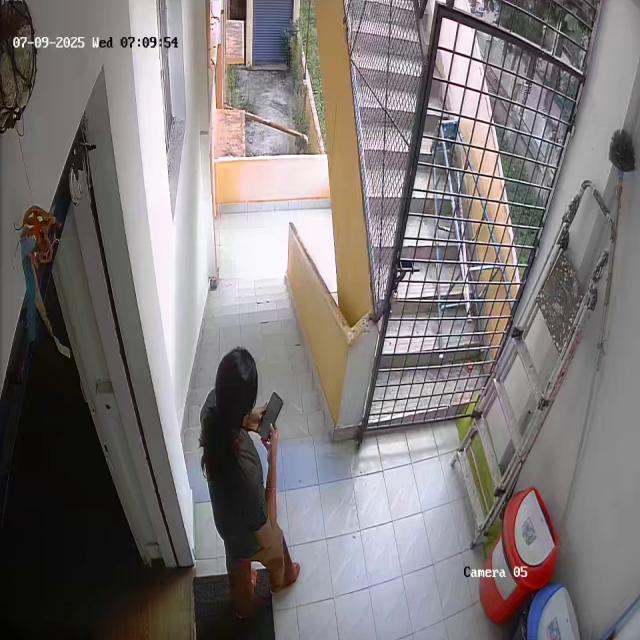person: (184, 344, 301, 602)
